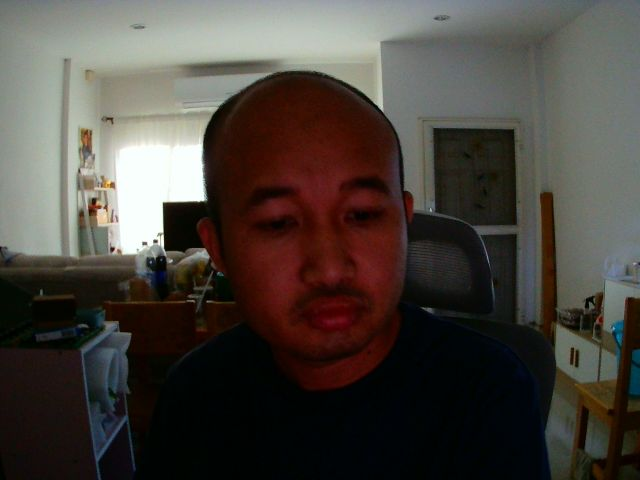face: (187, 62, 417, 363)
